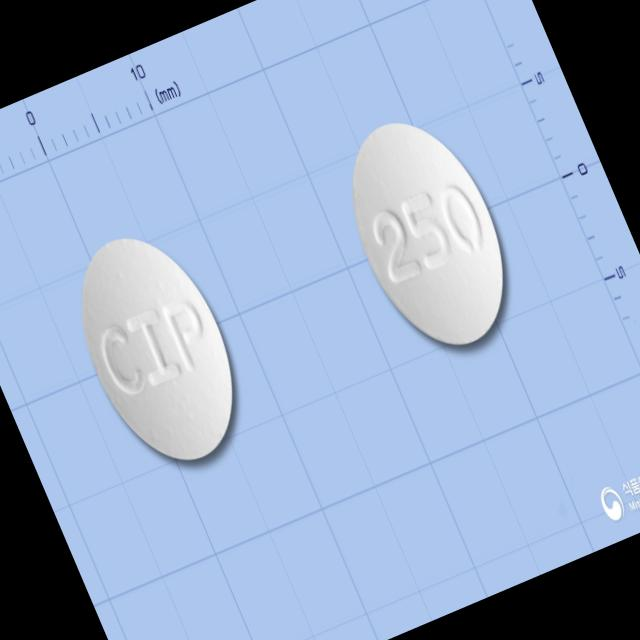Ciprocin - 259mg: (315, 90, 544, 378), (46, 208, 270, 488)
